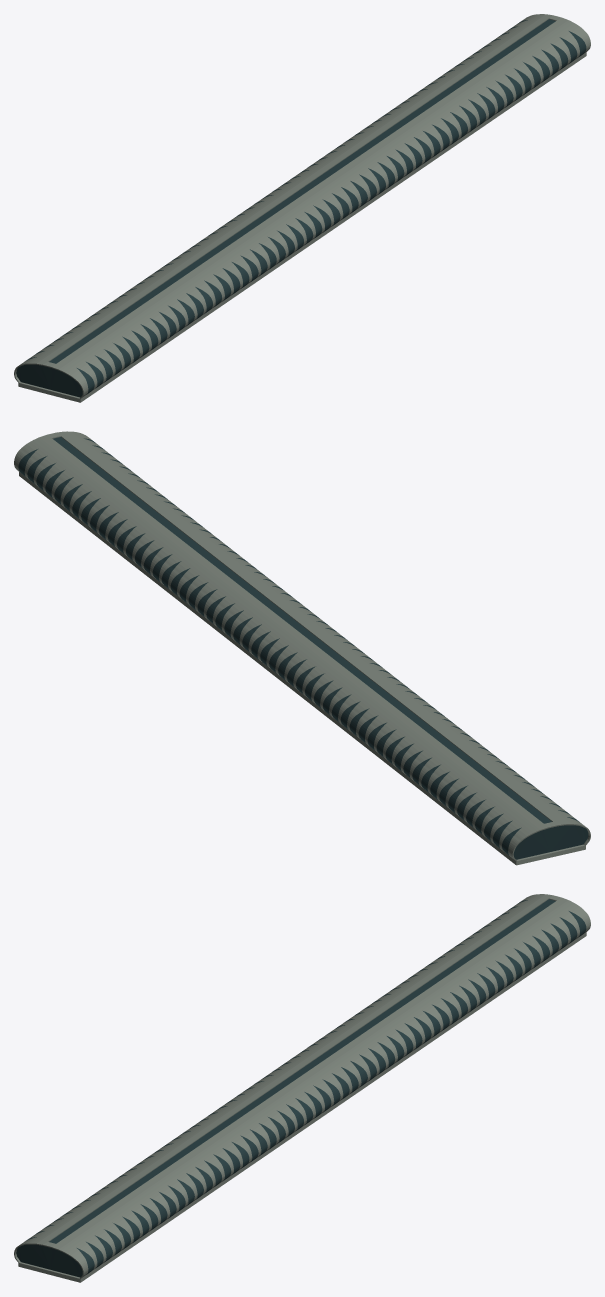
File: ConB.obj
The picture shows the model from 3 angles, top to bottom: view 1: azimuth 90°, elevation 25°; view 2: azimuth 150°, elevation 25°; view 3: azimuth 270°, elevation 25°; orthographic projection. The views are drawn at different scales.
Bounding box in the file's own units: 826 × 31.74 × 551.
